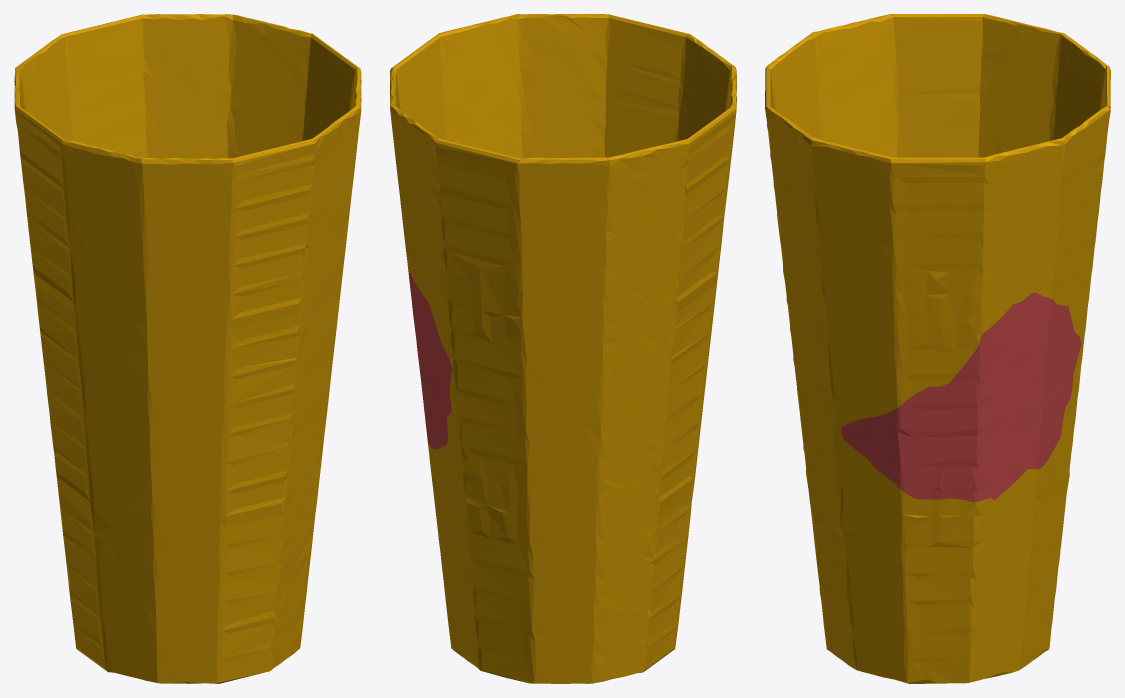
File: fractured_60_2pcs.glb
3 renders of one model, left to right at view 1: azimuth 30°, elevation 25°; view 2: azimuth 150°, elevation 25°; view 3: azimuth 270°, elevation 25°, orthographic.
Parts seen in each view (by area): view 1: piece_0.obj; view 2: piece_0.obj, piece_1.obj; view 3: piece_0.obj, piece_1.obj.
Part boxes in pixels (x1=…): piece_0.obj: x1=14, y1=14, x2=361, y2=683; piece_0.obj: x1=390, y1=14, x2=736, y2=683; piece_1.obj: x1=408, y1=269, x2=452, y2=449; piece_0.obj: x1=765, y1=14, x2=1110, y2=683; piece_1.obj: x1=841, y1=292, x2=1081, y2=501.
Bounding box in the file's own units: 0.5675 × 1 × 0.5677.
